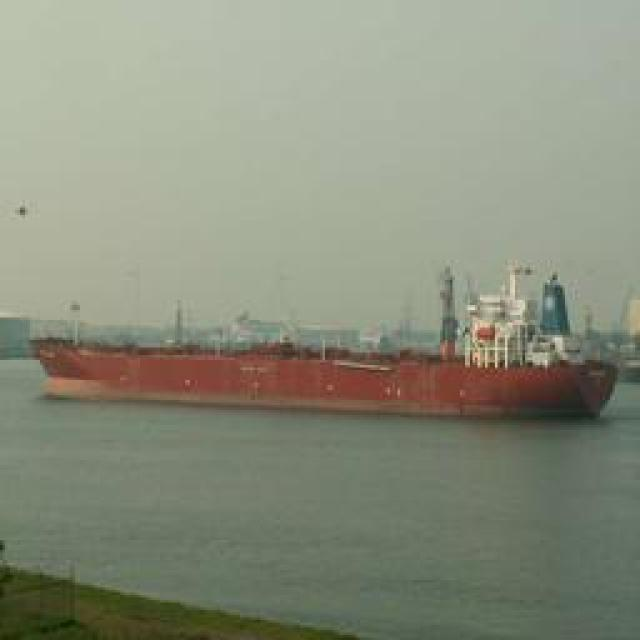Ship: (28, 254, 618, 426)
